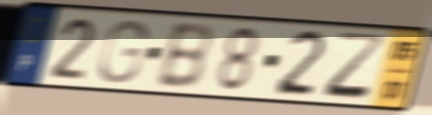2: (274, 27, 329, 99), (50, 16, 99, 81)
8: (216, 24, 263, 95)
B: (153, 21, 215, 92)
G: (95, 18, 150, 86)
Z: (320, 30, 391, 104)
